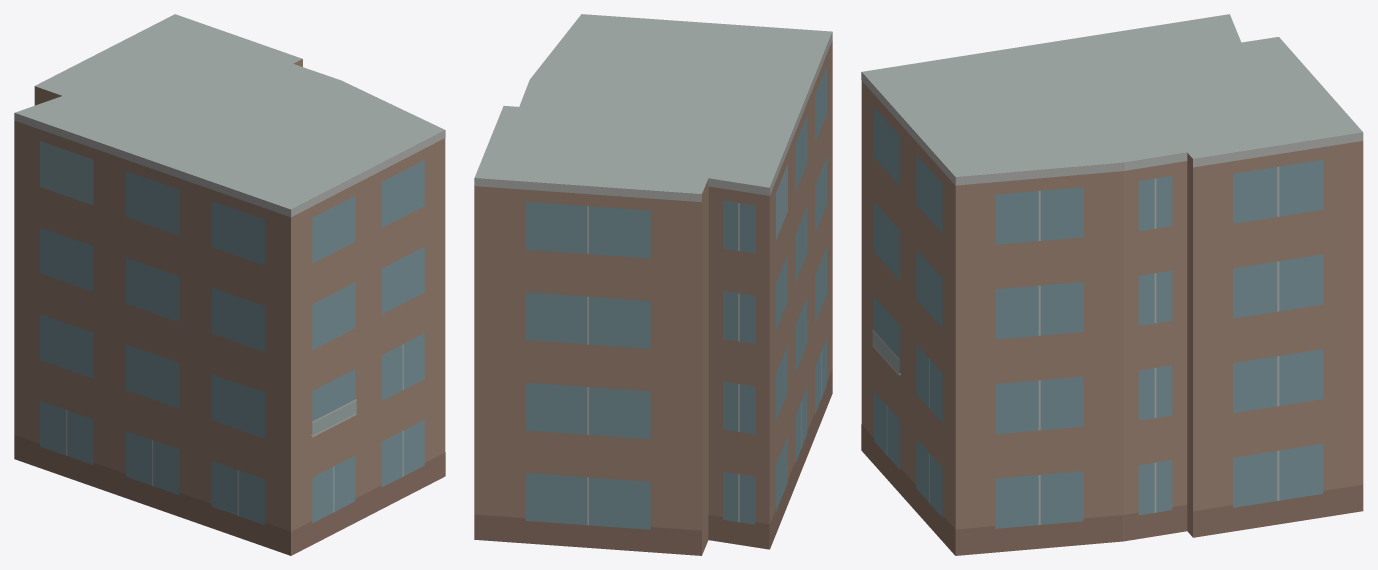
Rendered from survey-upis-32840907.glb.
3 views of the same model, side by side, from view 1: azimuth 30°, elevation 25°; view 2: azimuth 150°, elevation 25°; view 3: azimuth 270°, elevation 25° (orthographic). The views are drawn at different scales.
Visible parts, largest first — view 1: survey-upis-32840907.tmp; view 2: survey-upis-32840907.tmp; view 3: survey-upis-32840907.tmp.
Boxes of the visible parts, x1,y1,x2,y2 form: survey-upis-32840907.tmp: (14, 14, 445, 555); survey-upis-32840907.tmp: (474, 14, 832, 555); survey-upis-32840907.tmp: (861, 14, 1363, 555).
Bounding box in the file's own units: 10.08 × 10.9 × 13.1.
